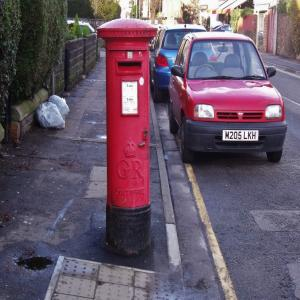Vehicle-registration-plate: (223, 130, 259, 142)
